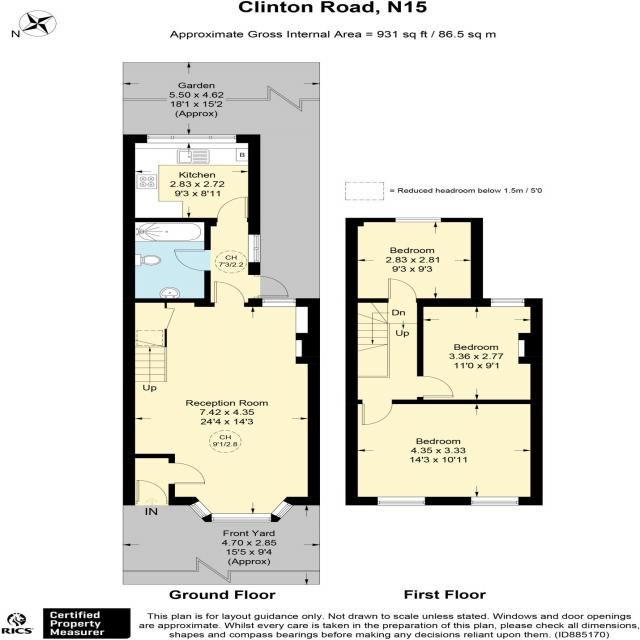DOOR: (248, 274, 289, 299), (134, 479, 170, 505), (360, 399, 394, 426), (216, 196, 249, 223), (416, 375, 454, 398), (168, 462, 206, 485), (213, 281, 245, 307), (387, 278, 417, 303)
ROOM: (122, 281, 320, 522), (345, 399, 543, 506), (416, 298, 543, 404), (345, 218, 484, 307), (122, 134, 261, 223)
WINDOW: (188, 499, 296, 523), (146, 134, 238, 144), (174, 249, 211, 272), (470, 496, 520, 506), (377, 496, 426, 506), (247, 234, 262, 263), (490, 298, 525, 307), (261, 298, 296, 307), (395, 217, 442, 223)
